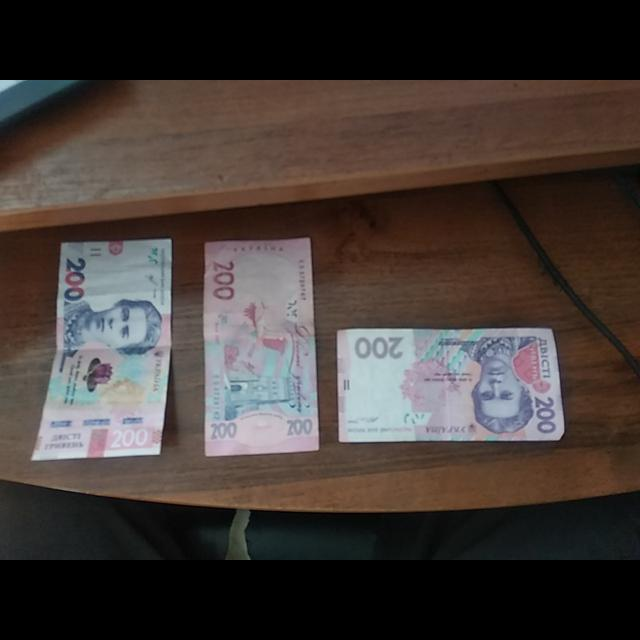200uah: (31, 238, 170, 459), (336, 329, 566, 441), (203, 240, 322, 456)
